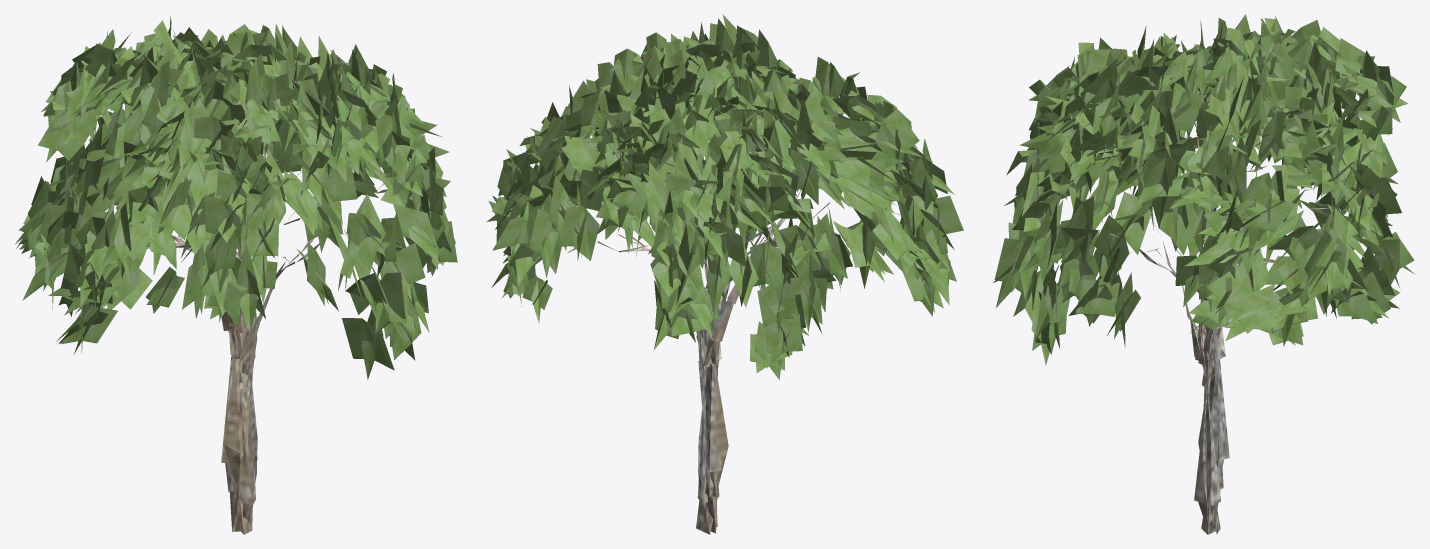
File: acacia_6.obj
3 renders of one model, left to right at view 1: azimuth 30°, elevation 25°; view 2: azimuth 150°, elevation 25°; view 3: azimuth 270°, elevation 25°, orthographic. The views are drawn at different scales.
Visible parts, largest first — view 1: acacia_lowres.002; view 2: acacia_lowres.002; view 3: acacia_lowres.002.
Part boxes in pixels (bbox=[...]): acacia_lowres.002: bbox=[15, 15, 457, 534]; acacia_lowres.002: bbox=[486, 14, 963, 534]; acacia_lowres.002: bbox=[993, 14, 1414, 534].
Size of the model in its own units: 11.33 by 12.37 by 9.46.
1 material, 1 textured.
